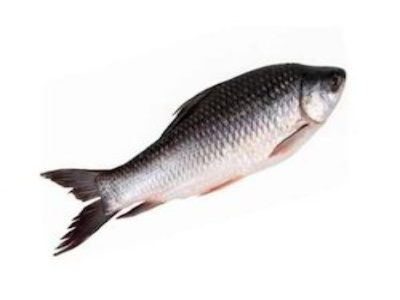rohu: (38, 49, 360, 266)
